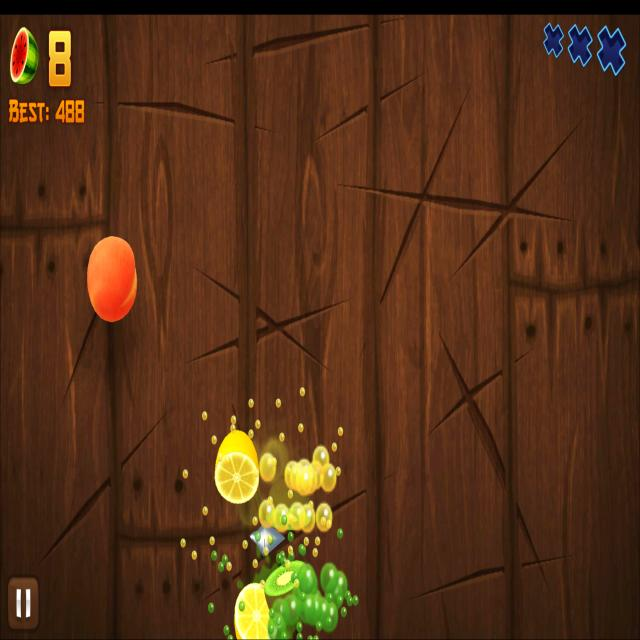fruit: (86, 234, 138, 324)
